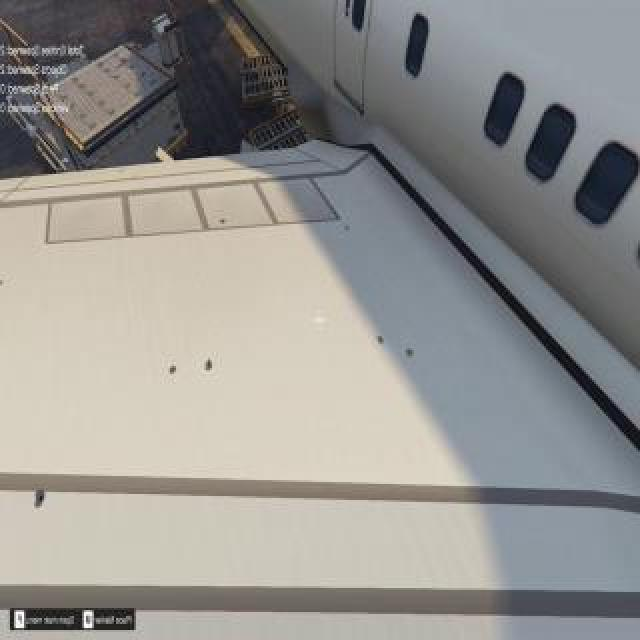crack: (31, 492, 51, 508), (375, 335, 385, 349), (406, 345, 414, 359), (206, 360, 214, 372), (169, 363, 177, 375), (342, 222, 350, 232), (219, 218, 227, 226)
